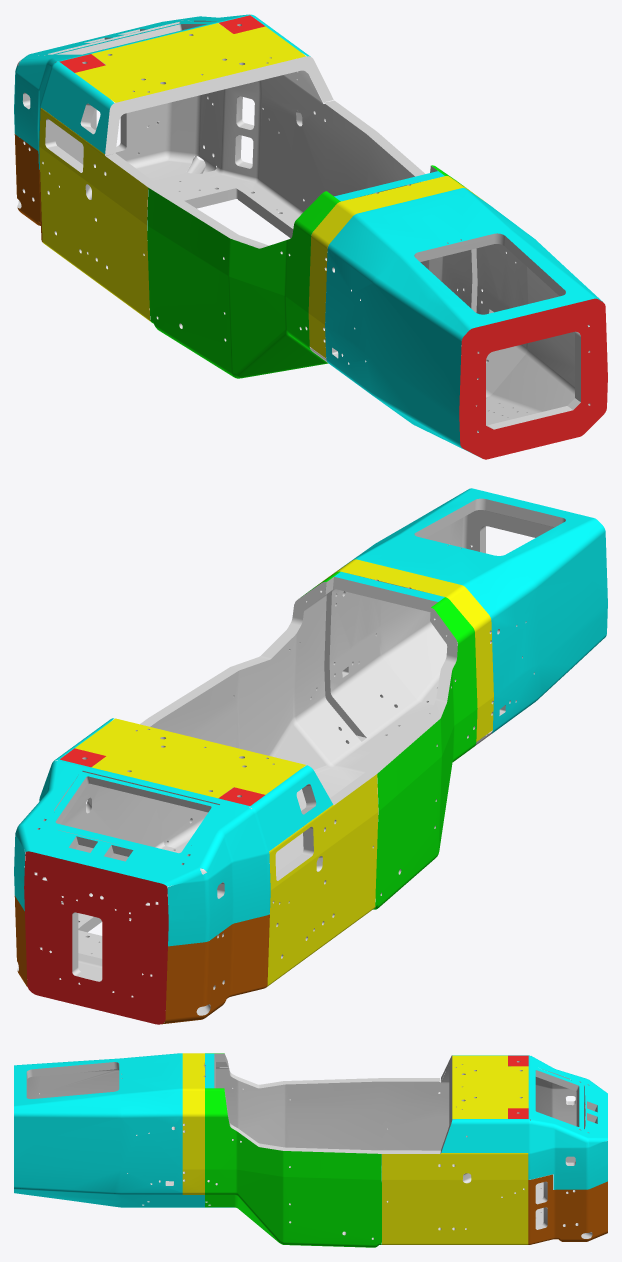
The model's file is r27e-monocoque-layup.glb.
3 renders of one model, top to bottom at view 1: azimuth 30°, elevation 25°; view 2: azimuth 150°, elevation 25°; view 3: azimuth 270°, elevation 25°, orthographic. The views are drawn at different scales.
Visible parts, largest first — view 1: 27 Monocoque; view 2: 27 Monocoque; view 3: 27 Monocoque.
Part boxes in pixels (x1,y1,x2,y2): 27 Monocoque: [14, 14, 607, 459]; 27 Monocoque: [14, 488, 607, 1024]; 27 Monocoque: [14, 1053, 607, 1247].
Bounding box in the file's own units: 0.644 × 0.554 × 2.11.
